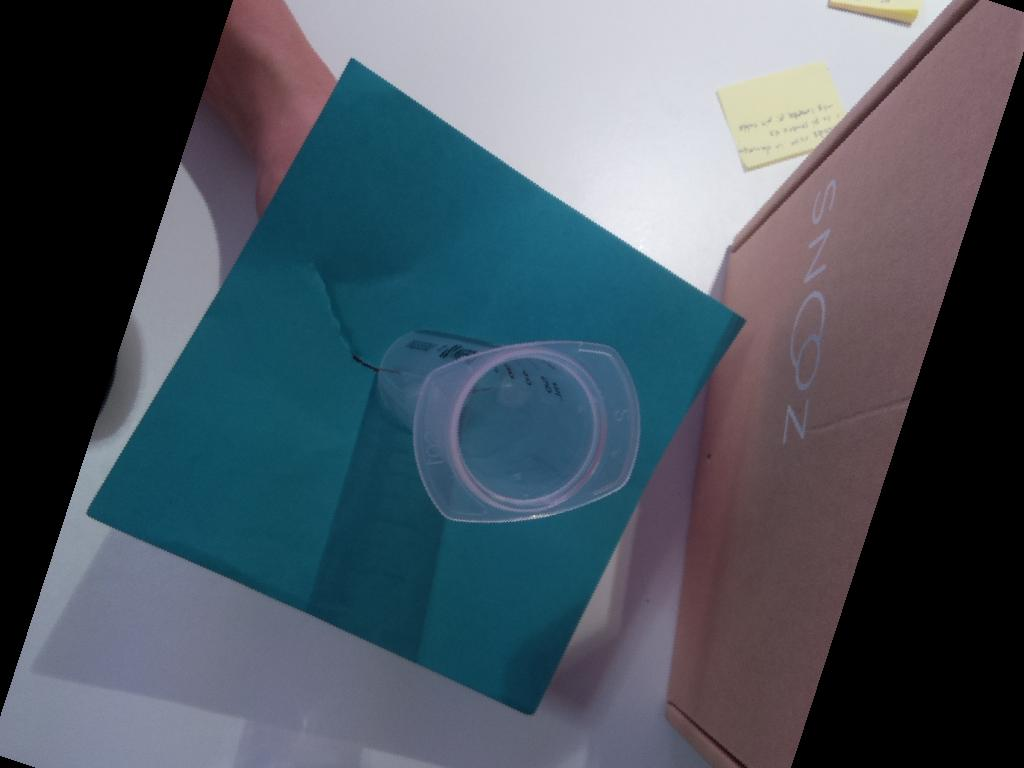clean: (413, 338, 642, 525)
